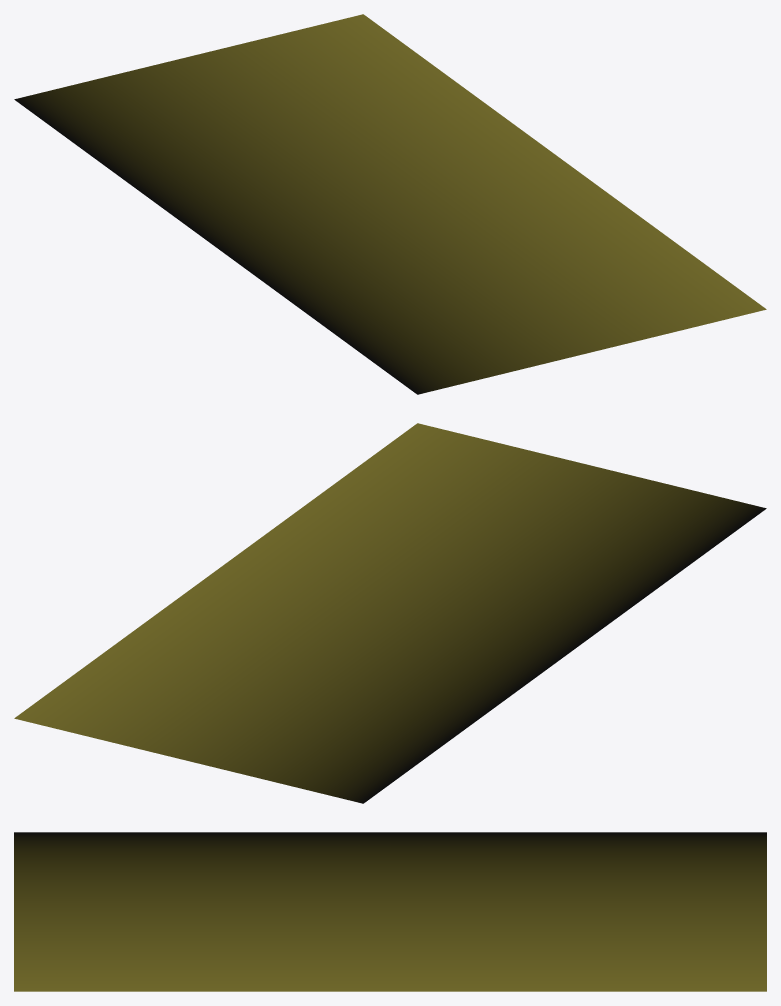
3 renders of one model, top to bottom at view 1: azimuth 30°, elevation 25°; view 2: azimuth 150°, elevation 25°; view 3: azimuth 270°, elevation 25°, orthographic. The views are drawn at different scales.
Bounding box in the file's own units: 0.5 × 0 × 1.
1 material, 1 textured.
